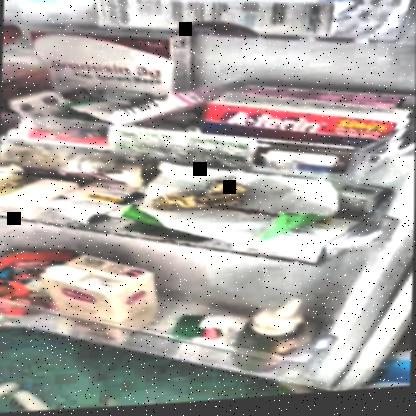milk: (50, 253, 156, 332)
